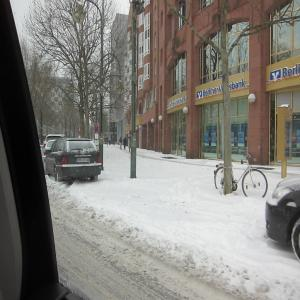Vehicle-registration-plate: (77, 159, 90, 164)
